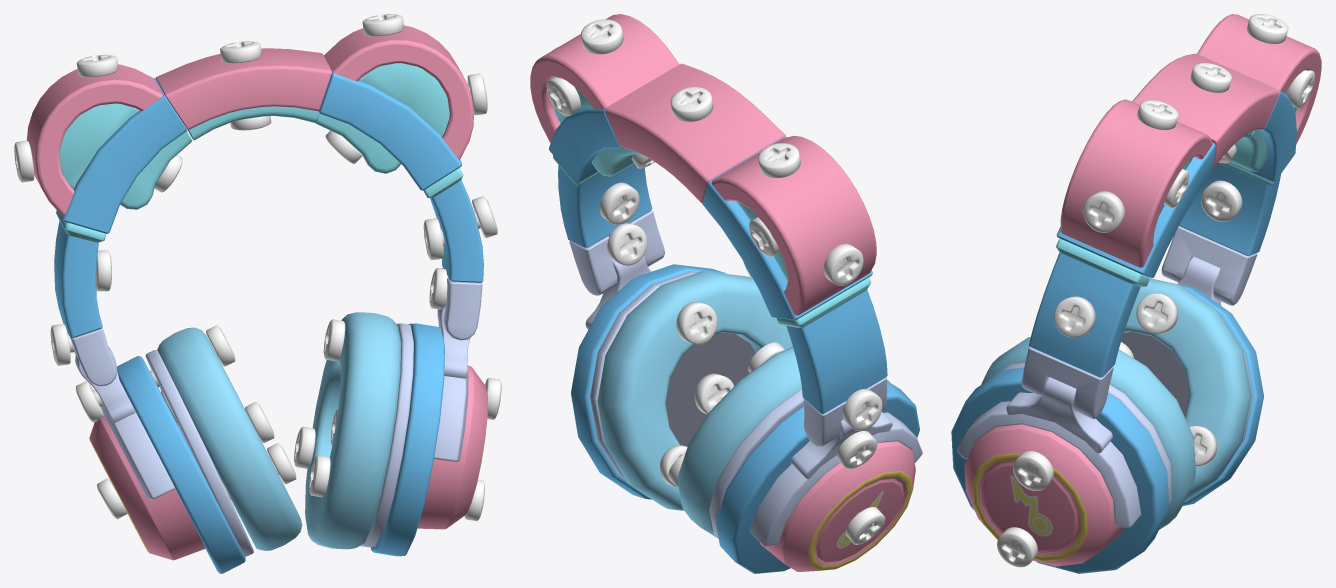
The model's file is EsportsEarphones.fbx.
The picture shows the model from 3 angles, left to right: view 1: azimuth 30°, elevation 25°; view 2: azimuth 150°, elevation 25°; view 3: azimuth 270°, elevation 25°; orthographic projection. The views are drawn at different scales.
Parts seen in each view (by area): view 1: EsportsEarphones.010, Screw (×18), EsportsEarphones.020, EsportsEarphones.017, EsportsEarphones.008, EsportsEarphones.018, EsportsEarphones.016, EsportsEarphones.014, EsportsEarphones.005, EsportsEarphones.023, EsportsEarphones.002, EsportsEarphones.007 (+13 smaller); view 2: EsportsEarphones.010, Screw (×14), EsportsEarphones.016, EsportsEarphones.017, EsportsEarphones.002, EsportsEarphones.019, EsportsEarphones.020, EsportsEarphones.023, EsportsEarphones.018, EsportsEarphones.004, EsportsEarphones.008, EsportsEarphones.021 (+8 smaller); view 3: EsportsEarphones.007, Screw (×12), EsportsEarphones.023, EsportsEarphones.020, EsportsEarphones.008, EsportsEarphones.021, EsportsEarphones.011, EsportsEarphones.017, EsportsEarphones.010, EsportsEarphones.016, EsportsEarphones.019, EsportsEarphones.013 (+7 smaller).
Part boxes in pixels (x1,y1,x2,y2): EsportsEarphones.010: (305,312,401,549); Screw (×18): (14,14,497,519); EsportsEarphones.020: (157,327,302,550); EsportsEarphones.017: (155,48,331,129); EsportsEarphones.008: (370,323,444,556); EsportsEarphones.018: (117,356,245,573); EsportsEarphones.016: (26,64,162,216); EsportsEarphones.014: (59,78,187,233); EsportsEarphones.005: (319,72,462,190); EsportsEarphones.023: (323,25,474,159); EsportsEarphones.002: (89,415,205,560); EsportsEarphones.007: (417,365,487,529); EsportsEarphones.010: (597,271,792,510); Screw (×14): (546,19,885,544); EsportsEarphones.016: (711,135,876,315); EsportsEarphones.017: (605,63,785,203); EsportsEarphones.002: (760,441,915,571); EsportsEarphones.019: (776,277,887,413); EsportsEarphones.020: (677,346,801,537); EsportsEarphones.023: (530,14,679,143); EsportsEarphones.018: (716,381,919,573); EsportsEarphones.004: (749,412,922,546); EsportsEarphones.008: (571,264,726,499); EsportsEarphones.021: (553,155,652,247); EsportsEarphones.007: (964,424,1123,566); Screw (×12): (997,14,1314,567); EsportsEarphones.023: (1060,99,1212,267); EsportsEarphones.020: (1121,278,1251,501); EsportsEarphones.008: (951,367,1168,573); EsportsEarphones.021: (1029,239,1149,377); EsportsEarphones.011: (956,376,1141,527); EsportsEarphones.017: (1132,53,1279,167); EsportsEarphones.010: (981,337,1195,529); EsportsEarphones.016: (1197,14,1321,144); EsportsEarphones.019: (1179,162,1280,255); EsportsEarphones.013: (1161,226,1257,305).
Bounding box in the file's own units: 7.68 × 9.39 × 6.41.
Materials: 3 (2 with a texture image).
